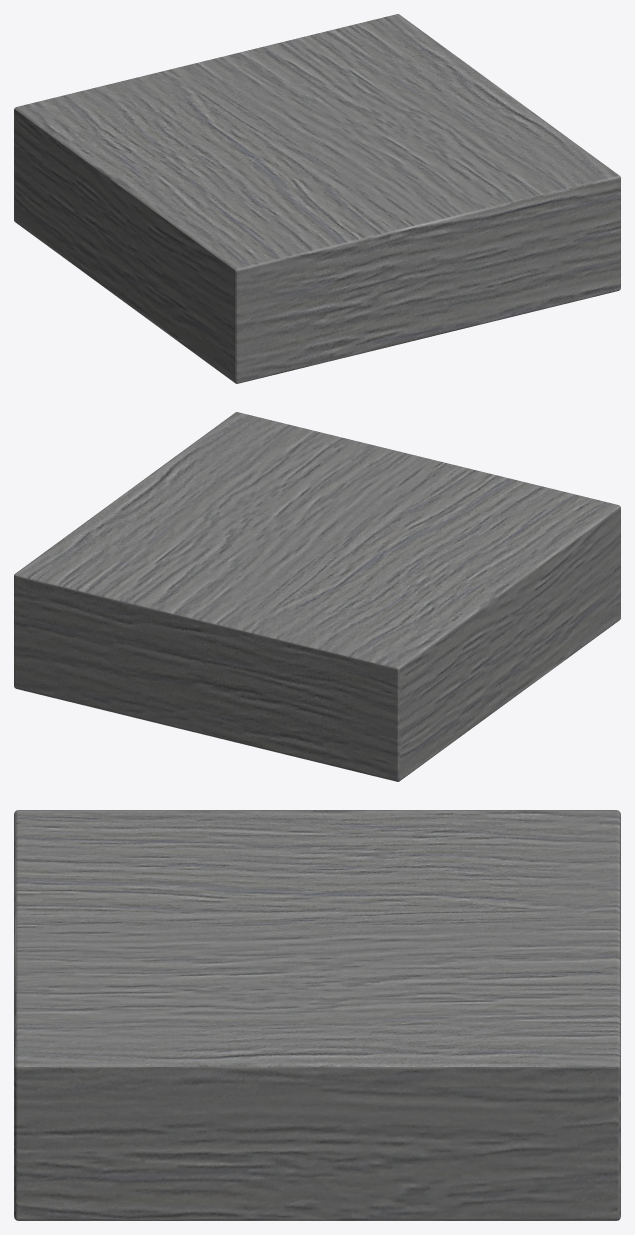
File: RoofBlock002.obj
3 views of the same model, one above another, from view 1: azimuth 30°, elevation 25°; view 2: azimuth 150°, elevation 25°; view 3: azimuth 270°, elevation 25° (orthographic). The views are drawn at different scales.
Parts seen in each view (by area): view 1: pCube1; view 2: pCube1; view 3: pCube1.
Part boxes in pixels (<box>): pCube1: <box>14,14,620,383</box>; pCube1: <box>14,412,620,781</box>; pCube1: <box>14,810,620,1220</box>.
Bounding box in the file's own units: 350 × 100 × 350.
Materials: 2 (2 with a texture image).
